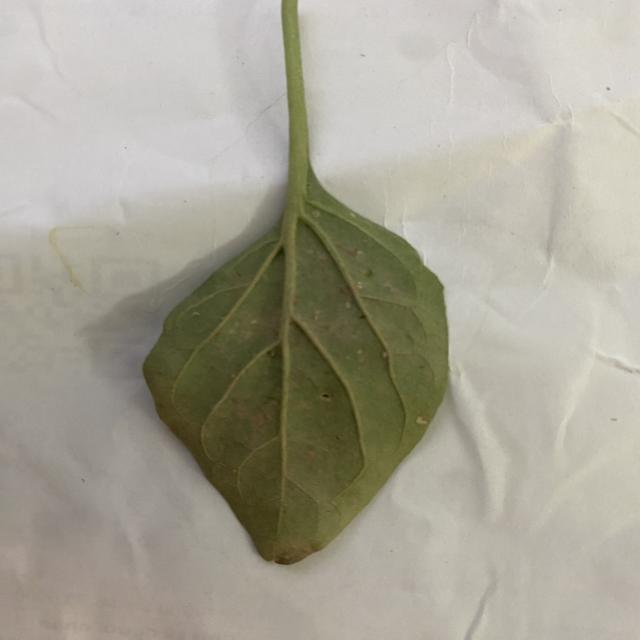Leaf: (142, 178, 457, 565)
